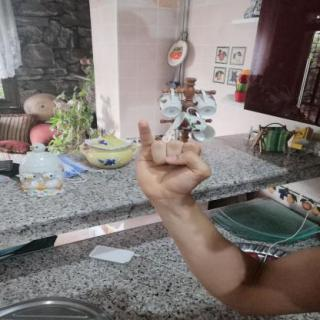MEEM: (123, 115, 220, 208)
